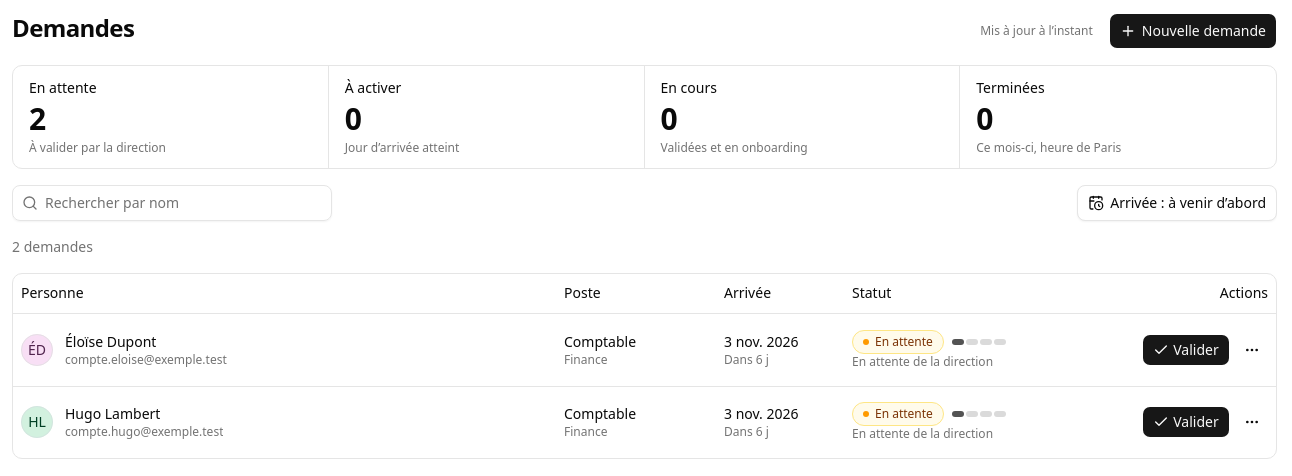
Test: Valider › POST sur la bonne adresse, spinner sur le bouton, rien d’autre de cliquable sur la ligne, puis la liste est relue
Check: the link "Hugo Lambert" is shown, box x1=65 y1=404 x2=160 y2=424
What coordinates should you click on to do the following:
click the button with aria-label "Valider la demande de Éloïse Dupont"
I would click on:
 (1186, 350)
Its box is x1=1142 y1=334 x2=1230 y2=366.
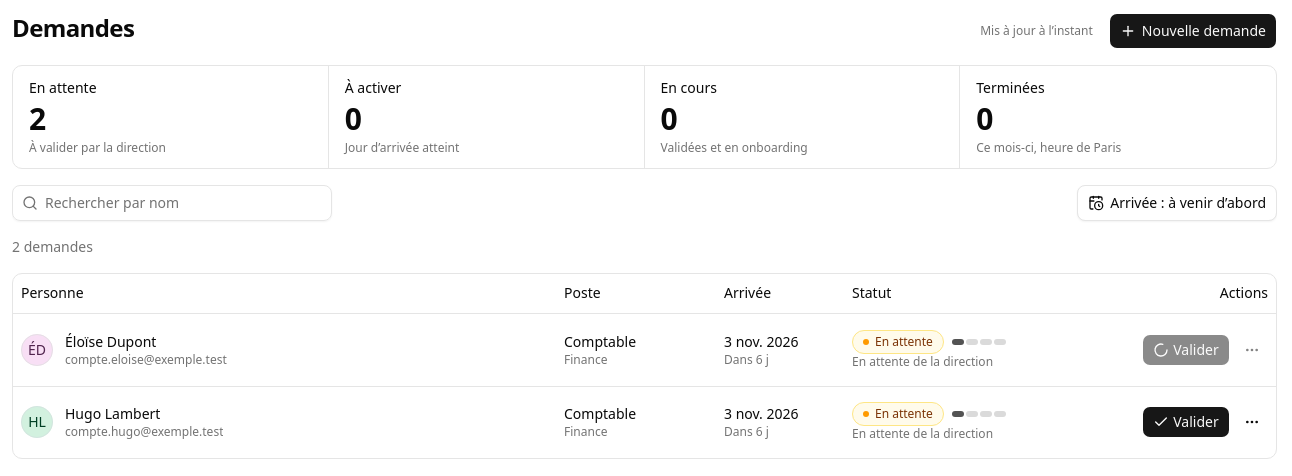
Check: the button named "Autres actions pour Éloïse Dupont" is disabled, box x1=1236 y1=334 x2=1268 y2=366
Check: the button with aria-label "Valider la demande de Éloïse Dupont" is disabled
// Un second clic ne repart pas.
What coordinates should you click on to do the following:
click the button with aria-label "Valider la demande de Éloïse Dupont"
I would click on:
 (1186, 350)
Its box is x1=1142 y1=334 x2=1230 y2=366.
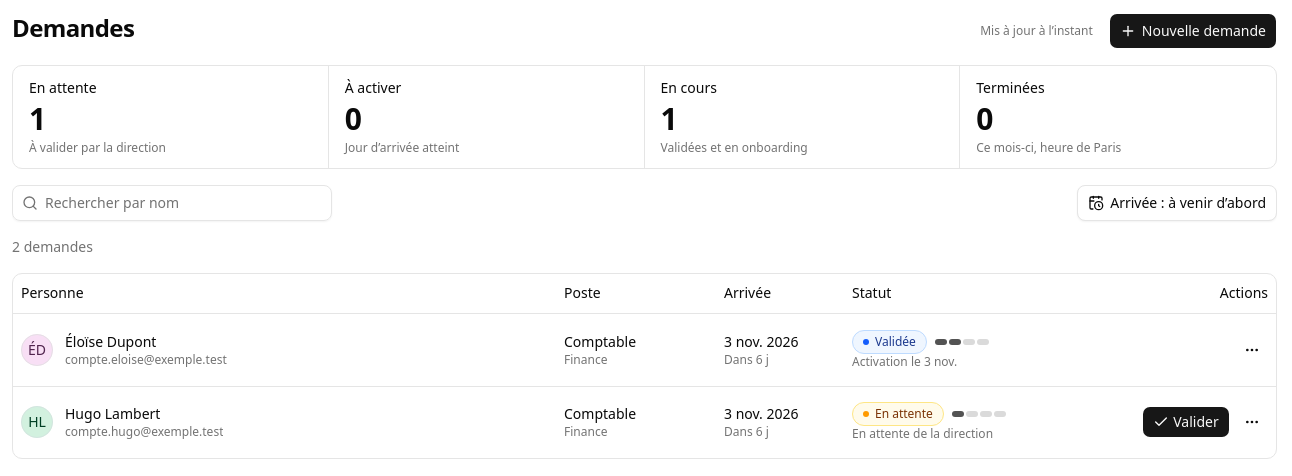
Check: the text "Validée" is shown, box x1=852 y1=330 x2=927 y2=354
